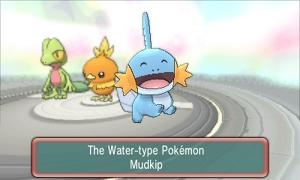mudkip: (113, 10, 195, 125)
